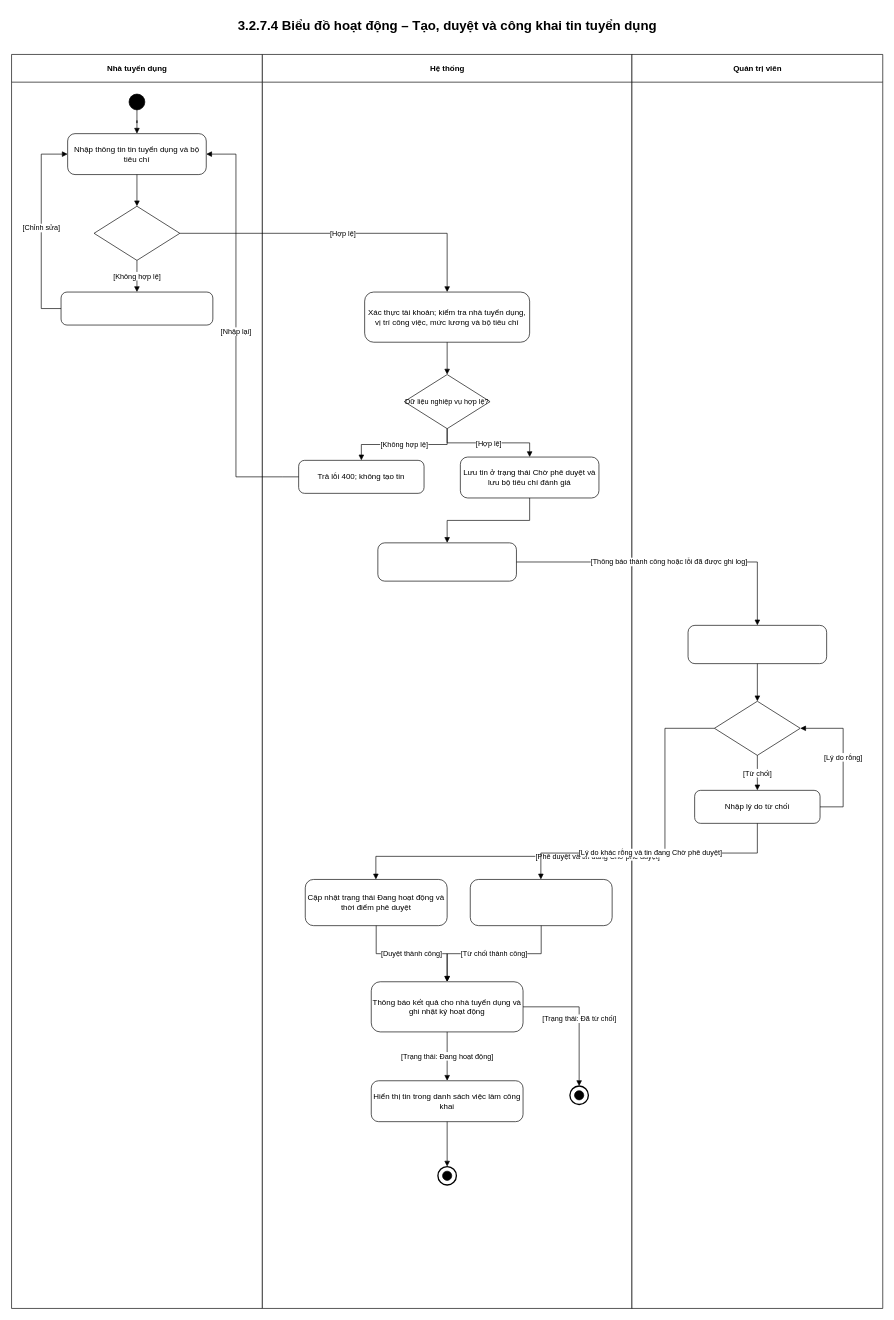
Some shapes in this 894 by 1320 pixel diagram are drawn without their labels. Each missing label, with the centre of its shape:
"Cập nhật trạng thái Đã từ chối và lý do từ chối" goes at (541,902).
"Dữ liệu giao diện hợp lệ?" goes at (136,233).
"Hiển thị lỗi và yêu cầu chỉnh sửa" goes at (136,308).
"Mở chi tiết JD và bộ tiêu chí" goes at (757,644).
"Quyết định xử lý?" goes at (757,728).
"Thông báo quản trị viên có tin chờ phê duyệt" goes at (446,561).
